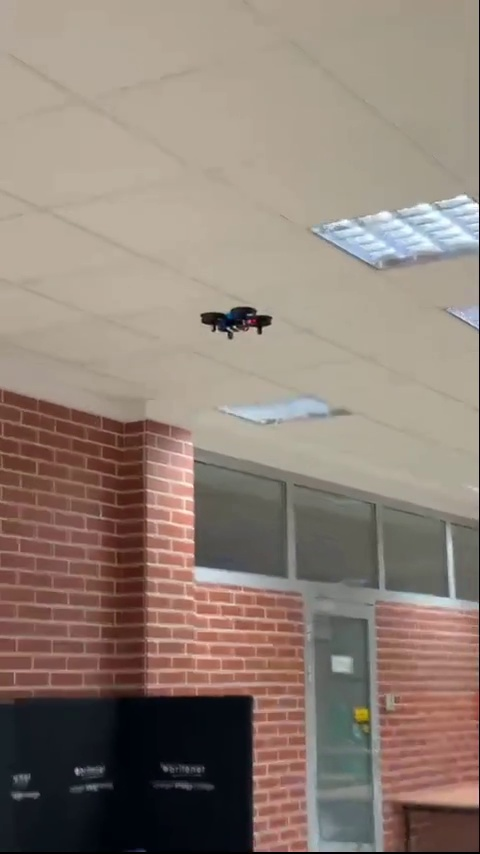drone: (197, 304, 273, 340)
